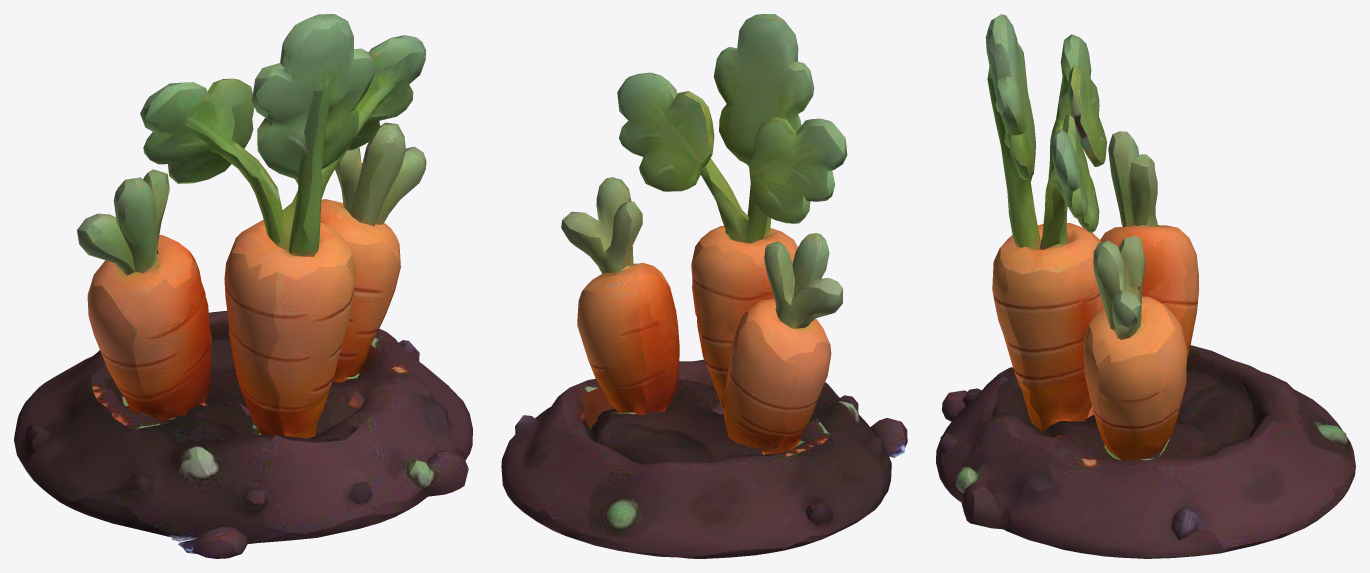
The model's file is crop_carrot.glb.
The picture shows the model from 3 angles, left to right: view 1: azimuth 30°, elevation 25°; view 2: azimuth 150°, elevation 25°; view 3: azimuth 270°, elevation 25°; orthographic projection. The views are drawn at different scales.
Visible parts, largest first — view 1: crop_carrot_s15; view 2: crop_carrot_s15; view 3: crop_carrot_s15.
Part boxes in pixels (bbox=[...]): crop_carrot_s15: bbox=[14, 14, 472, 558]; crop_carrot_s15: bbox=[501, 14, 907, 558]; crop_carrot_s15: bbox=[936, 14, 1355, 558].
Size of the model in its own units: 0.8475 by 1 by 0.8413.
1 material, 1 textured.
